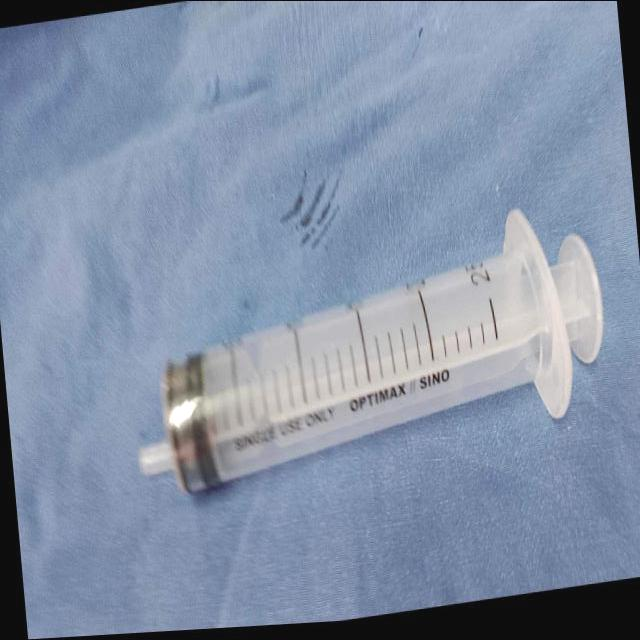Sharps: (135, 206, 604, 495)
